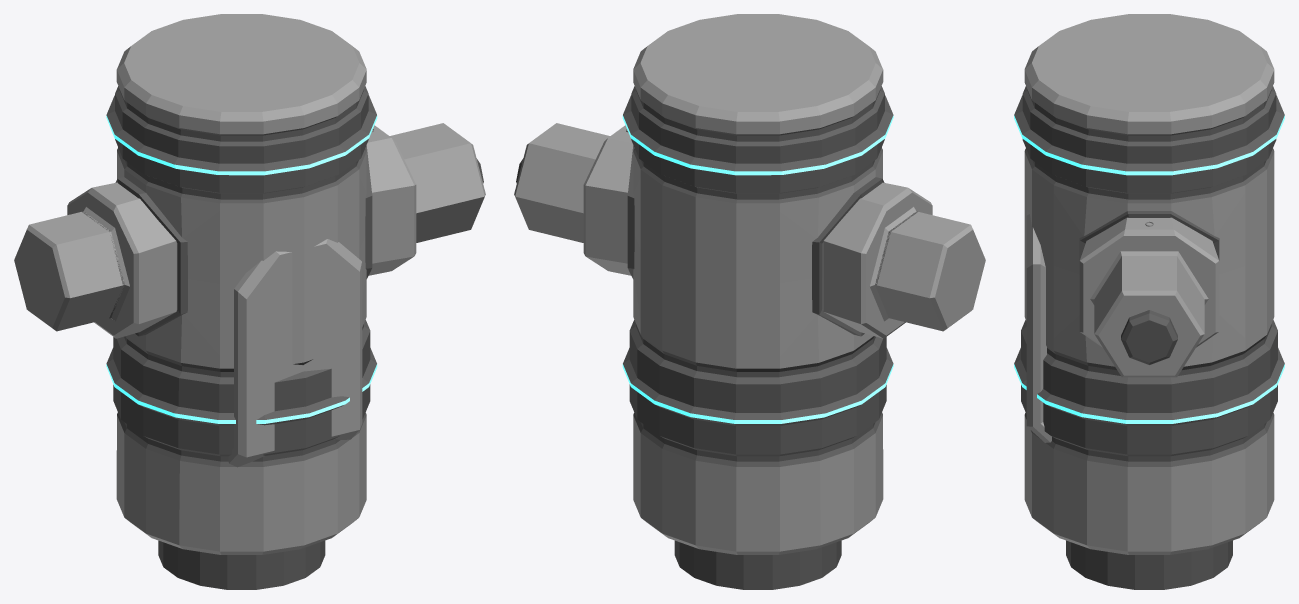
File: SM_PodInterior.fbx
3 views of the same model, side by side, from view 1: azimuth 30°, elevation 25°; view 2: azimuth 150°, elevation 25°; view 3: azimuth 270°, elevation 25° (orthographic).
Visible parts, largest first — view 1: SM_PodInterior; view 2: SM_PodInterior; view 3: SM_PodInterior, SM_PodInteriorFilter.
Part boxes in pixels (left/top/right/bottom): SM_PodInterior: left=14, top=14, right=485, bottom=589; SM_PodInterior: left=514, top=14, right=985, bottom=589; SM_PodInterior: left=1014, top=14, right=1284, bottom=589; SM_PodInteriorFilter: left=1121, top=310, right=1177, bottom=364.
Size of the model in its own units: 199 by 216 by 108.
